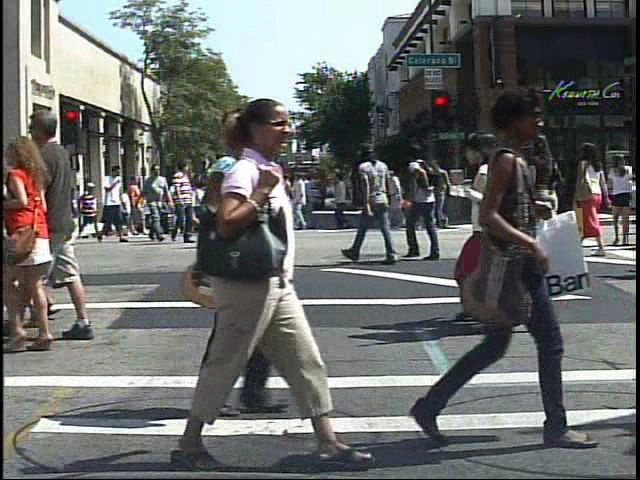person: (399, 78, 585, 462), (156, 82, 336, 478), (435, 129, 550, 346), (24, 101, 105, 346), (12, 126, 73, 351), (349, 135, 407, 273), (488, 129, 522, 343), (526, 127, 571, 262), (405, 142, 452, 264), (579, 136, 613, 259), (216, 147, 252, 250), (610, 147, 638, 246), (141, 159, 172, 245), (168, 158, 199, 244), (100, 162, 130, 245), (384, 164, 410, 236), (81, 180, 101, 244), (80, 183, 100, 228)
